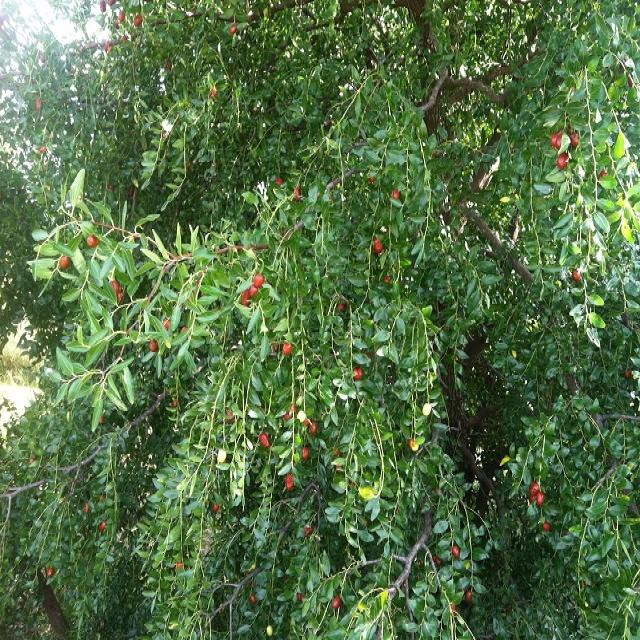Peach: (41, 168, 432, 491)
